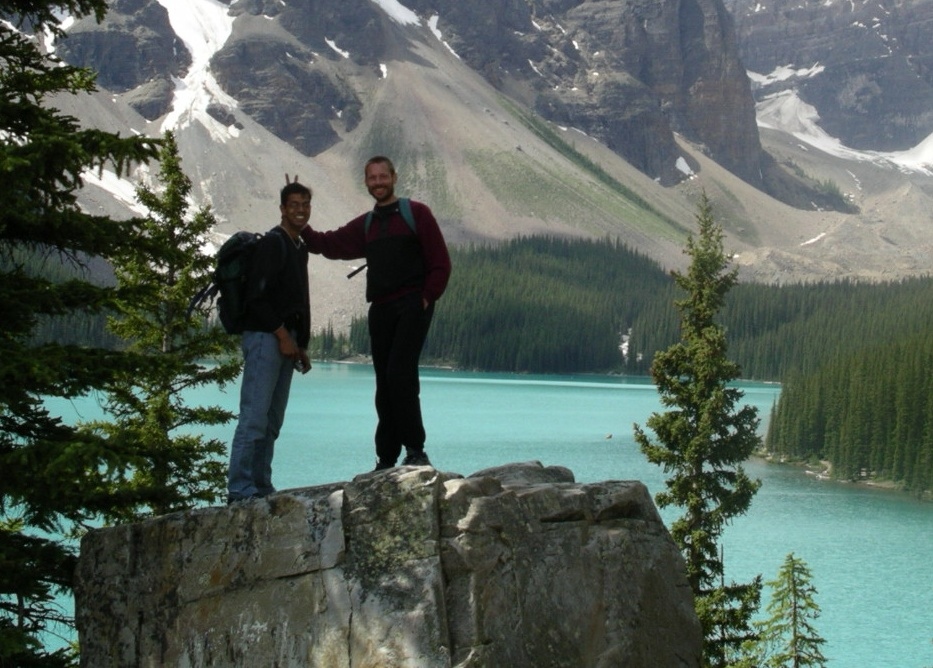person: (216, 170, 316, 507), (350, 150, 451, 475)
